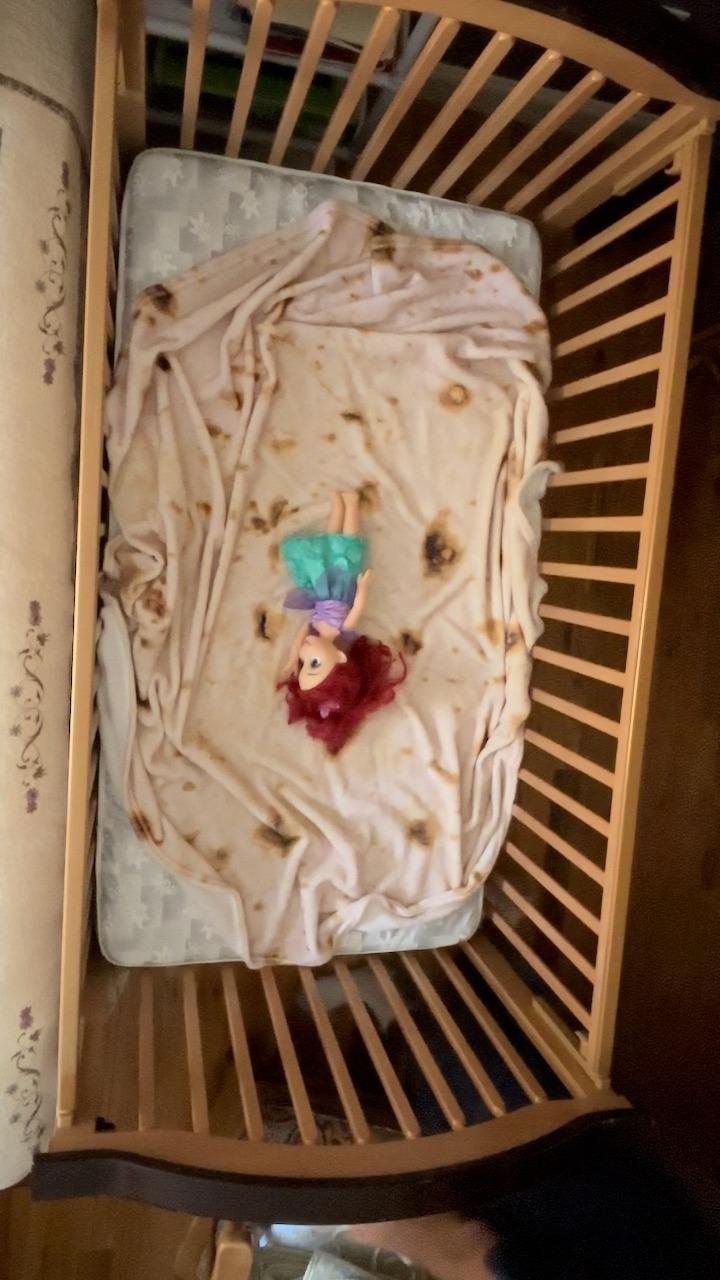baby: (267, 480, 390, 729)
